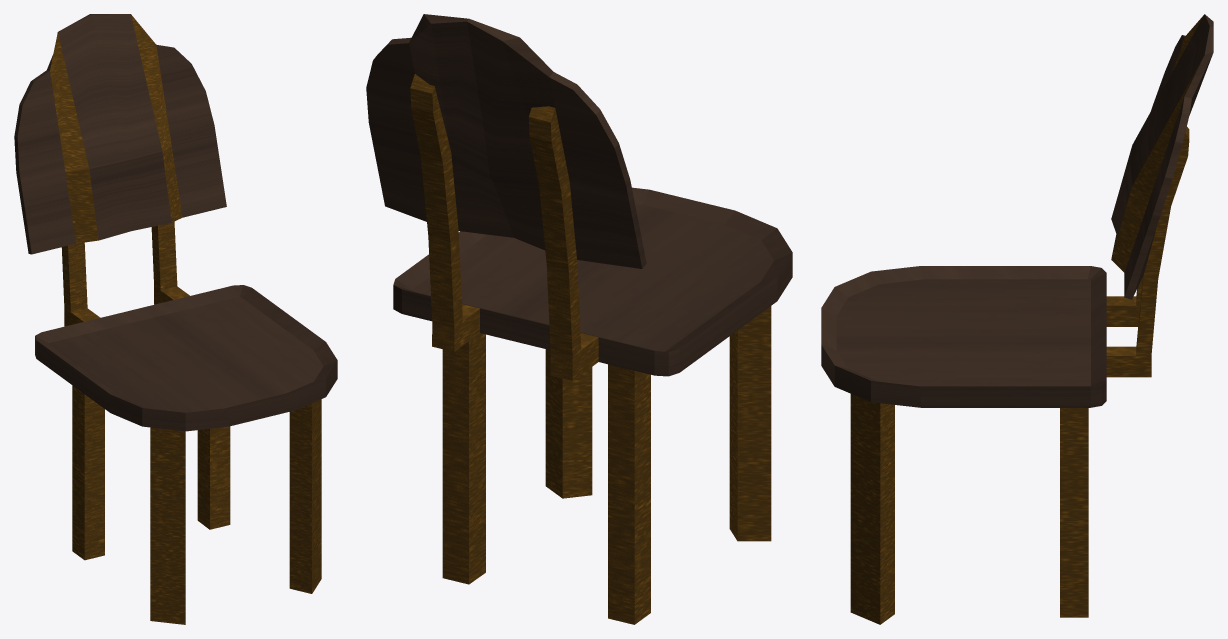
Rendered from GameJamChair.fbx.
3 views of the same model, side by side, from view 1: azimuth 30°, elevation 25°; view 2: azimuth 150°, elevation 25°; view 3: azimuth 270°, elevation 25° (orthographic). The views are drawn at different scales.
Parts seen in each view (by area): view 1: Cube; view 2: Cube; view 3: Cube.
Part boxes in pixels (left/top/right/bottom): Cube: left=14, top=14, right=337, bottom=624; Cube: left=366, top=14, right=792, bottom=624; Cube: left=821, top=14, right=1213, bottom=624.
Size of the model in its own units: 200 by 426 by 275.
2 materials, 2 textured.
